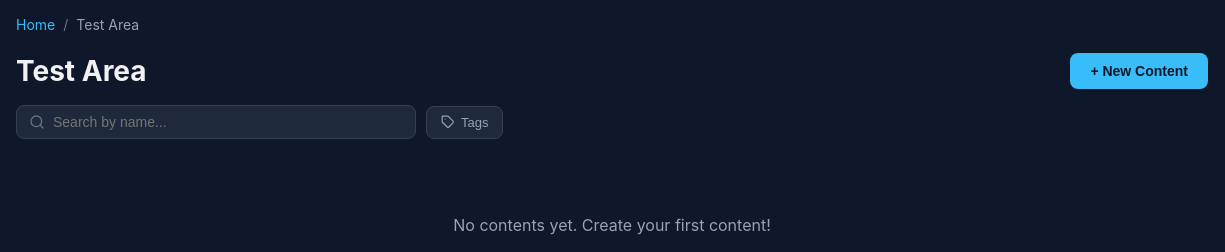
Scenario: AreaPage › Edit Area Name › should save new name on blur
This screenshot has width=1225, height=252.
Click the heading "Test Area": (81, 71) [16,54,147,88]
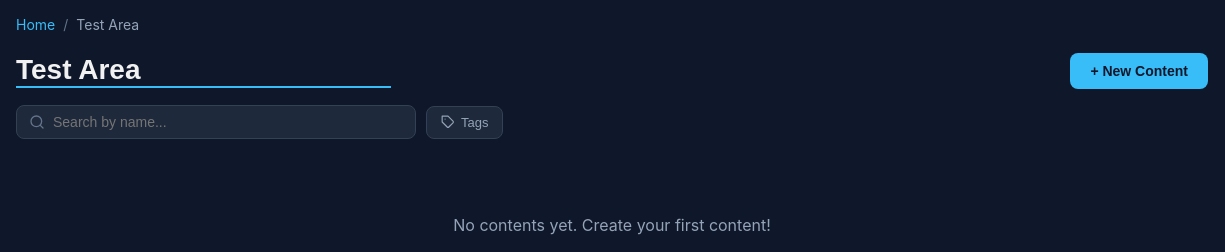
Replace the text in the field showing "Test Area" with "Blurred Area": (204, 71) [16,54,391,88]
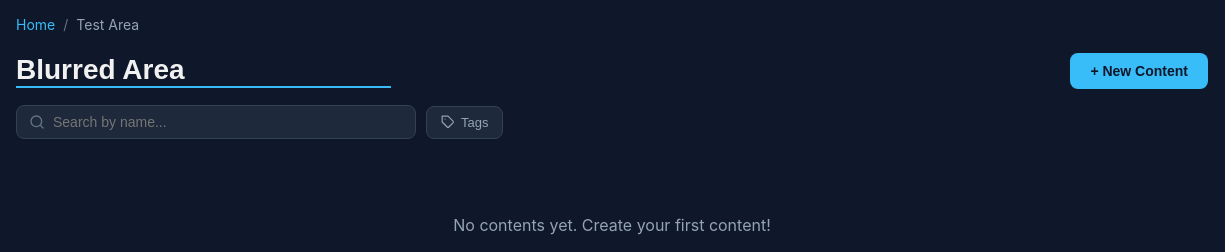
Leave the field showing "Test Area", box [16,54,391,88]
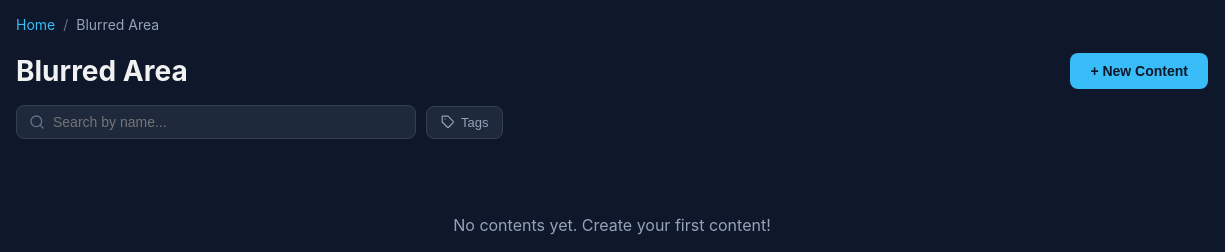
Expected: the text "Blurred Area" is shown, [76,16,159,33]
